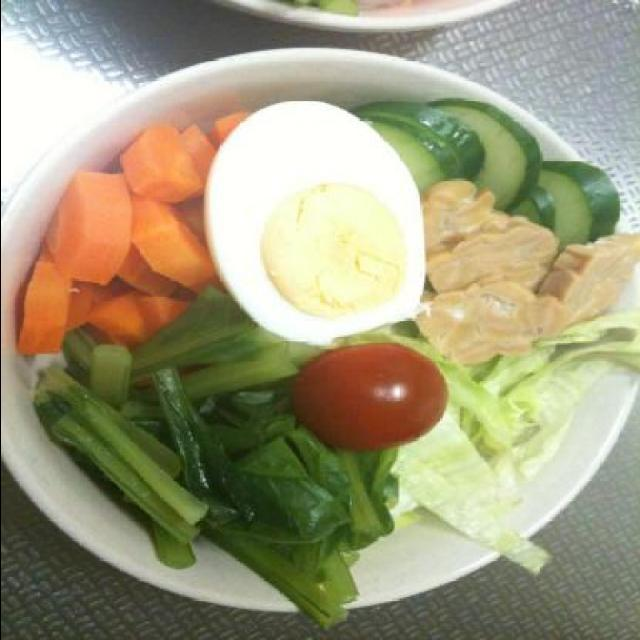Tomato: (291, 342, 449, 454)
